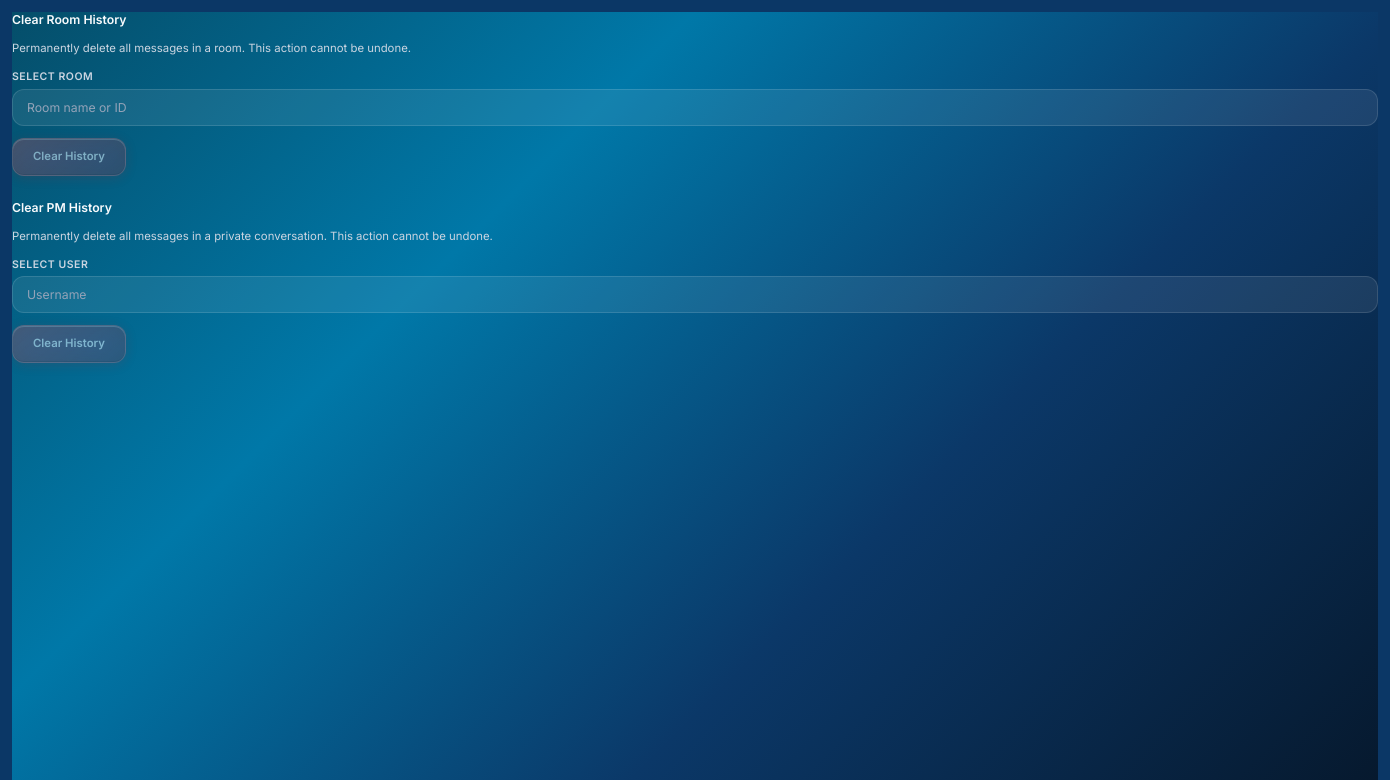
Test case: AccountSection › Clear Room History › clears history and shows success on confirm
This screenshot has width=1390, height=780.
Type "general" into the field labelled "Select Room" at (695, 107), box [12,89,1378,126]
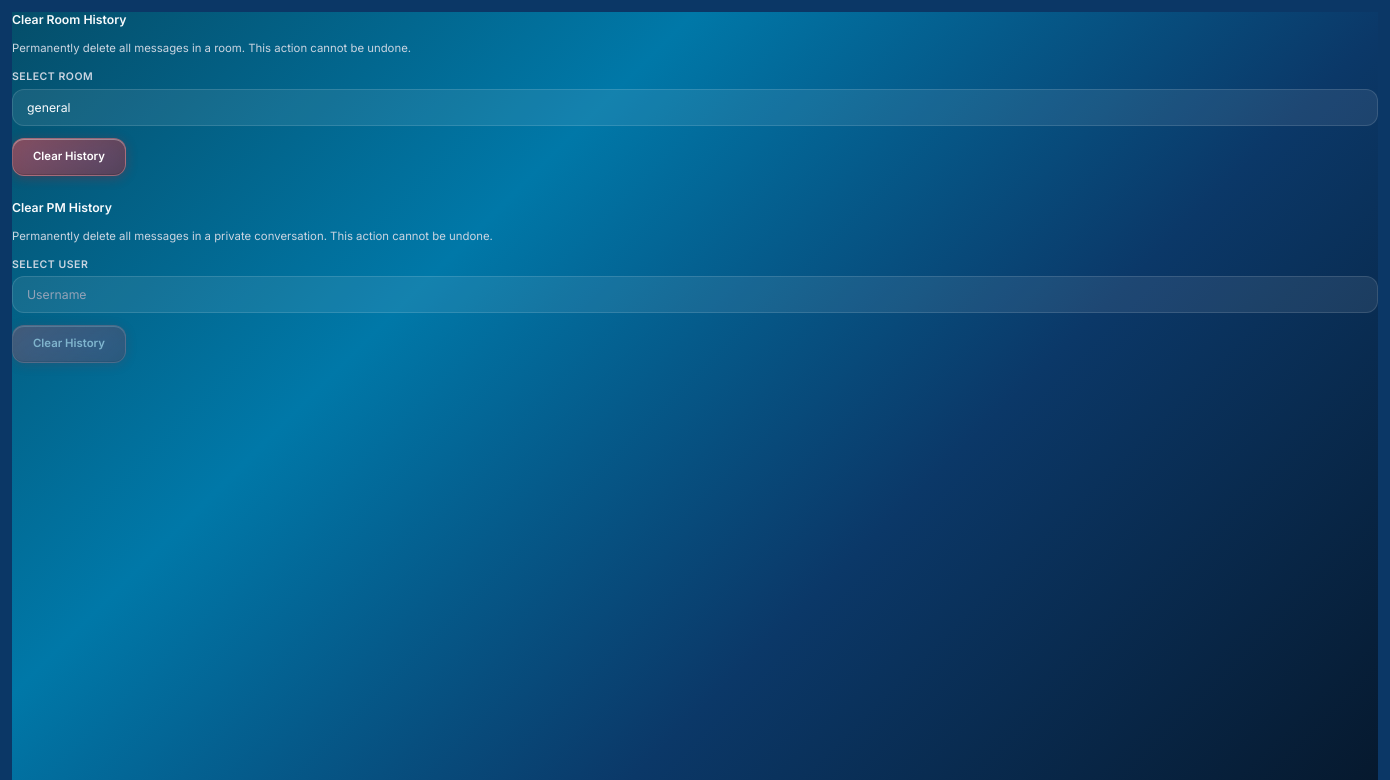
Click the button "Clear History" below "Select Room" at (69, 157), box [12,138,126,176]
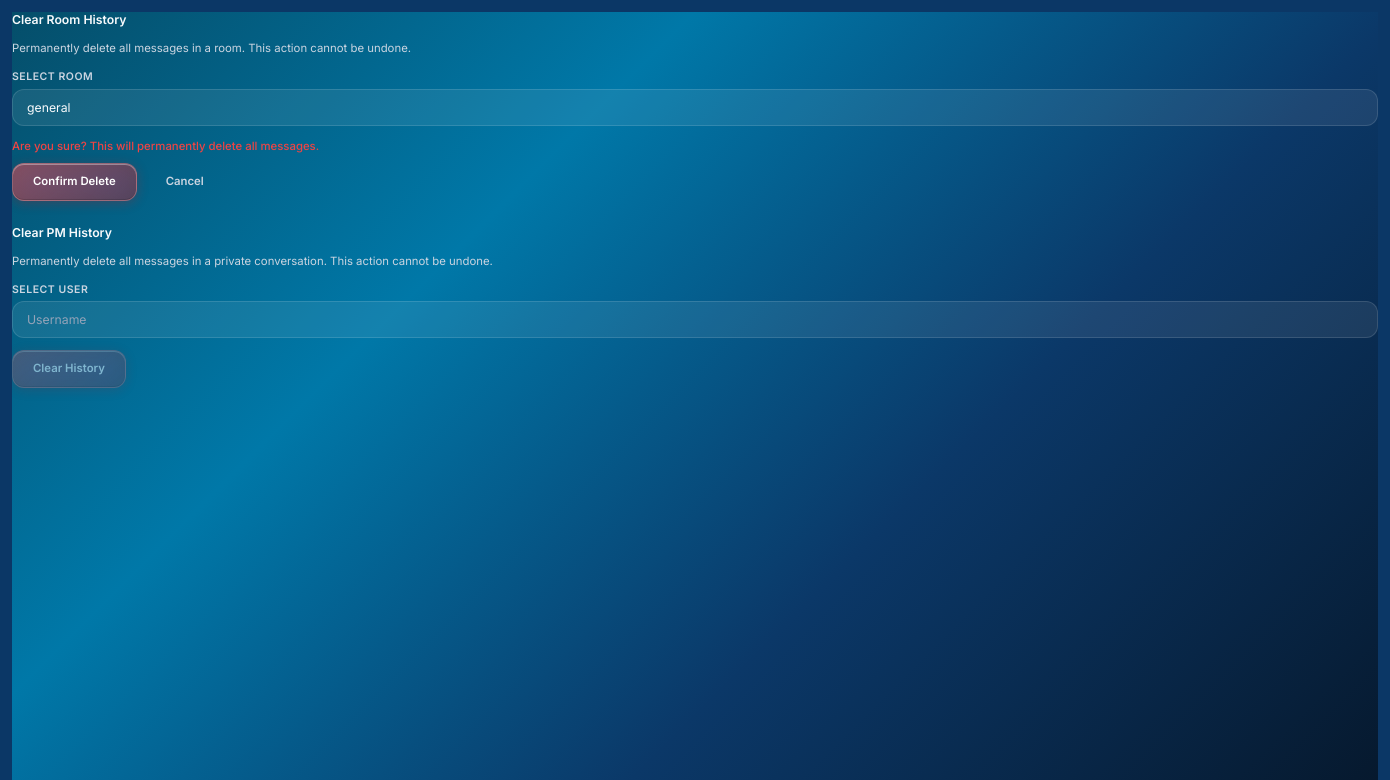
Click the button "Confirm Delete" at (74, 182), box [12,163,137,201]
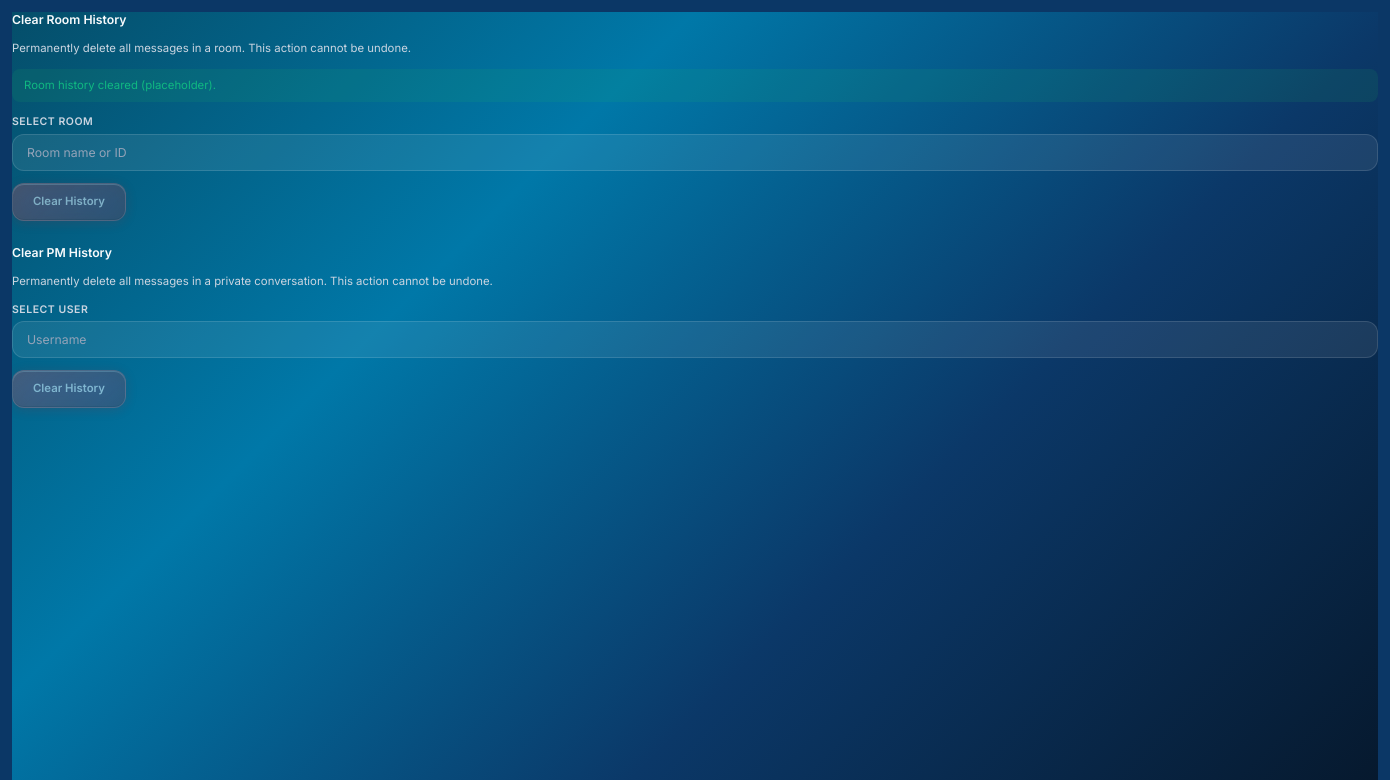
Expected: the text "Room history cleared (placeholder)." is shown, [12,69,1378,102]
